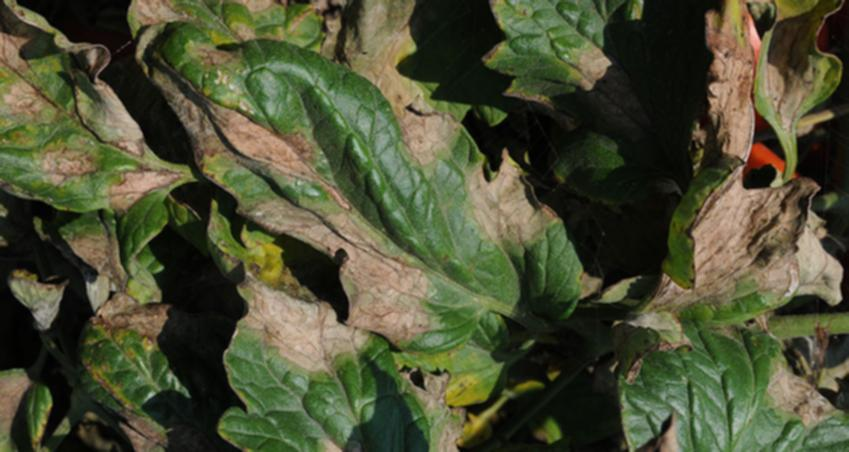Tomato leaf late blight: (139, 1, 596, 346), (611, 92, 849, 387), (205, 263, 501, 452), (0, 0, 196, 229), (466, 0, 706, 167), (585, 326, 849, 452)
